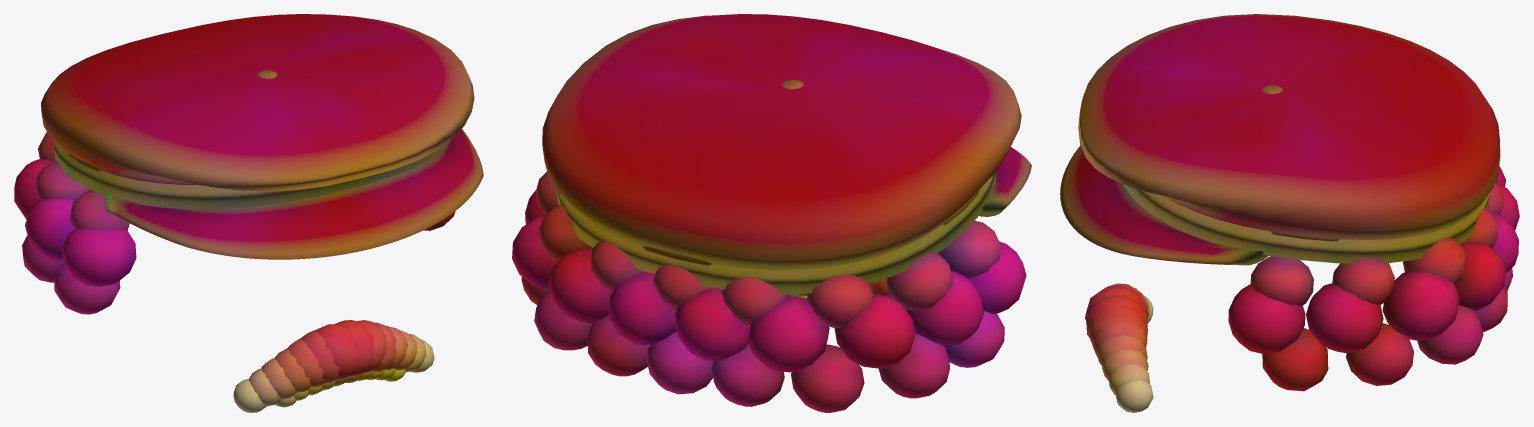
File: ElderlyPassengerLooks.fbx
The picture shows the model from 3 angles, left to right: view 1: azimuth 30°, elevation 25°; view 2: azimuth 150°, elevation 25°; view 3: azimuth 270°, elevation 25°; orthographic projection. The views are drawn at different scales.
Visible parts, largest first — view 1: Look_Opa_Cap, Look_Opa_Hair, Look_Opa_Mustache; view 2: Look_Opa_Cap, Look_Opa_Hair; view 3: Look_Opa_Cap, Look_Opa_Hair, Look_Opa_Mustache.
Part boxes in pixels (x1,y1,x2,y2): Look_Opa_Cap: (41,14,483,259); Look_Opa_Hair: (14,132,455,314); Look_Opa_Mustache: (233,320,434,412); Look_Opa_Cap: (542,14,1031,294); Look_Opa_Hair: (512,171,1026,412); Look_Opa_Cap: (1060,14,1500,265); Look_Opa_Hair: (1228,166,1519,391); Look_Opa_Mustache: (1085,283,1153,412).
Size of the model in its own units: 0.696 by 0.4417 by 0.6545.
